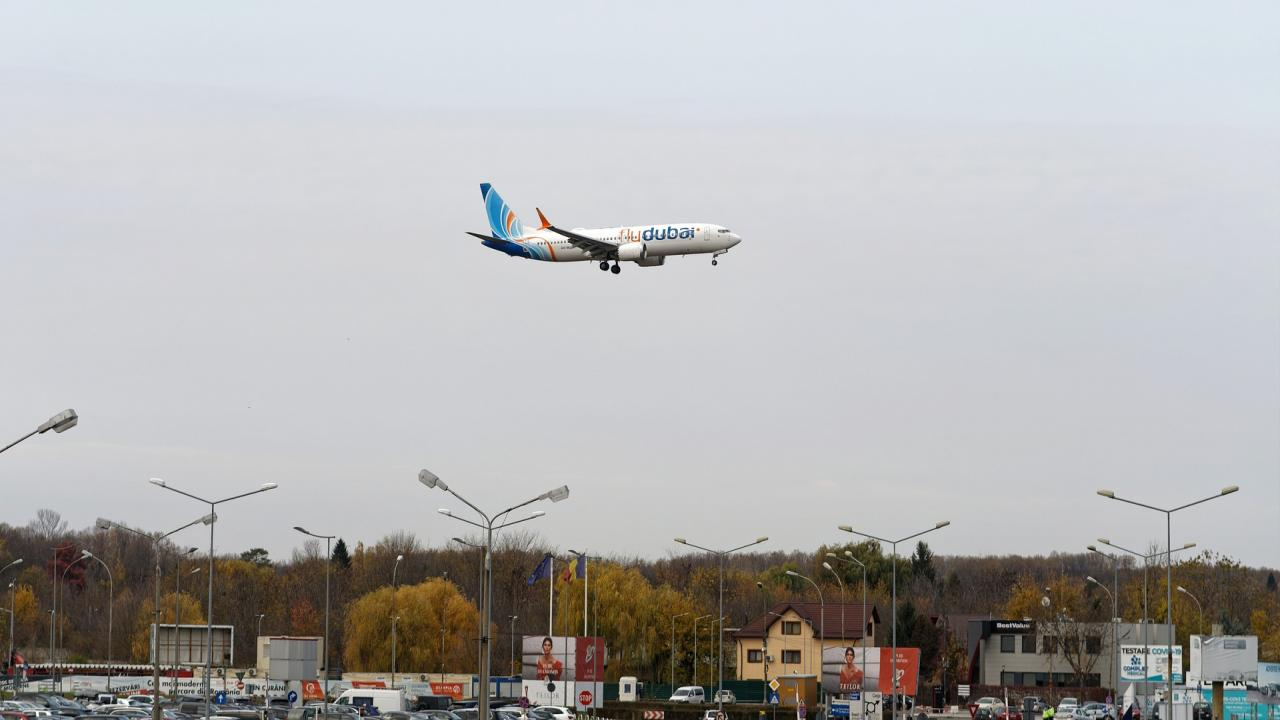Airplane: (456, 170, 752, 288)
